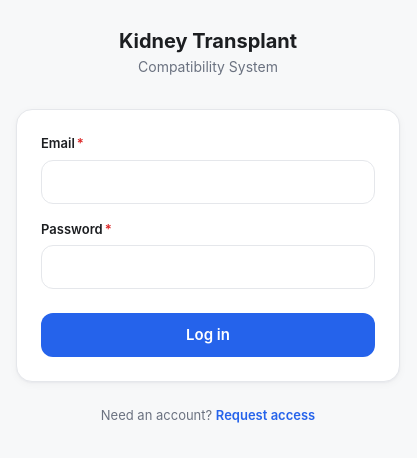
Test: LoginPage › shows a generic message for non-401 failures
The image size is (417, 458).
Step 1. Type "doctor@example.com" into the field labelled "Email*" → (208, 182), box x1=41 y1=160 x2=375 y2=204
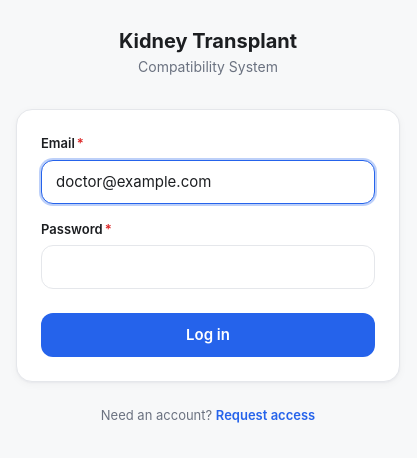
Step 2. Type "some-password" into the password field labelled "Password*" → (208, 267), box x1=41 y1=245 x2=375 y2=289
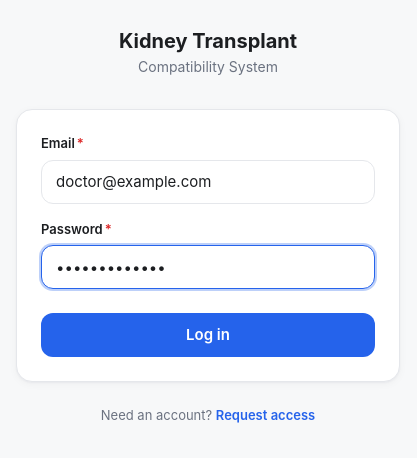
Step 3. Click the button "Log in" → (208, 335), box x1=41 y1=313 x2=375 y2=357
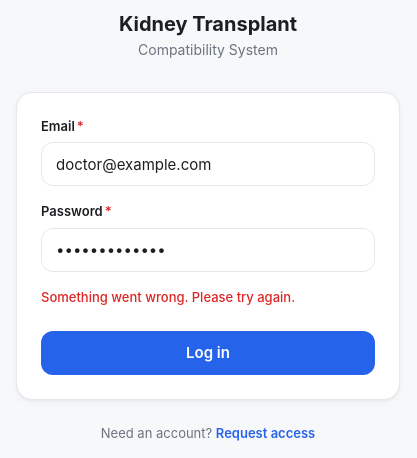
expect the text "Something went wrong. Please try again." is shown: met, box x1=41 y1=288 x2=295 y2=304
